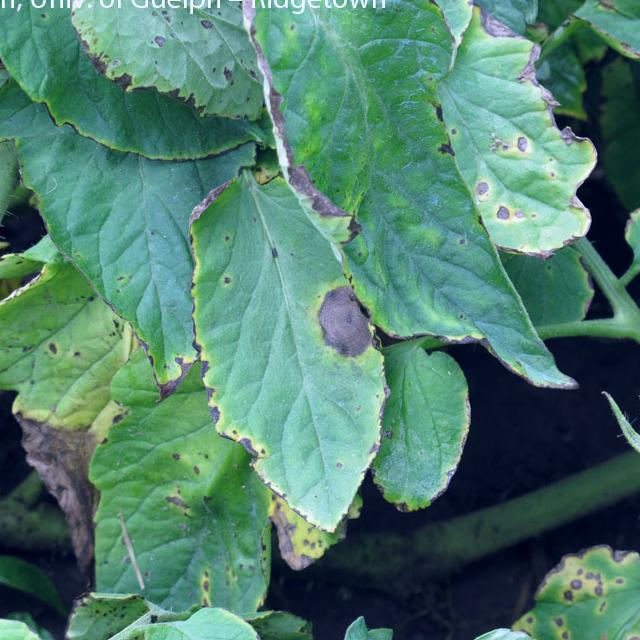Tomato Early blight leaf: (235, 0, 599, 378), (186, 170, 398, 515), (94, 379, 295, 639)
